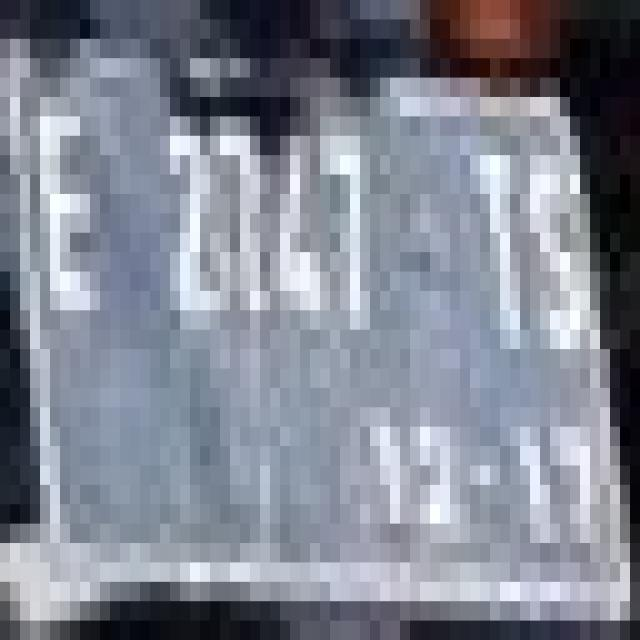plate: (0, 19, 620, 582)
